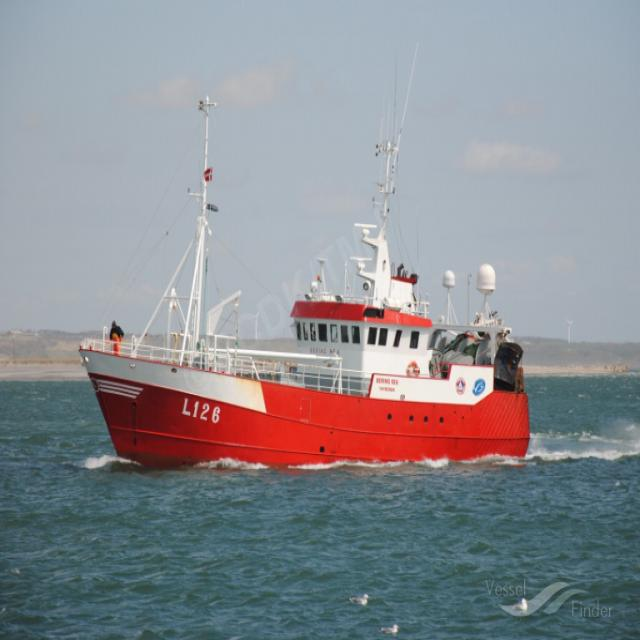Fishing Vessel: (79, 263, 534, 465)
